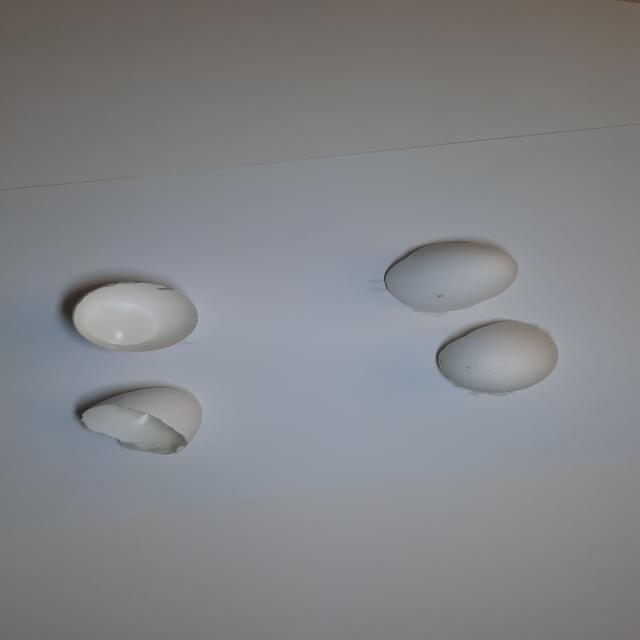egg shell: (370, 235, 540, 318), (59, 274, 211, 358), (65, 382, 234, 457), (424, 316, 568, 399)
